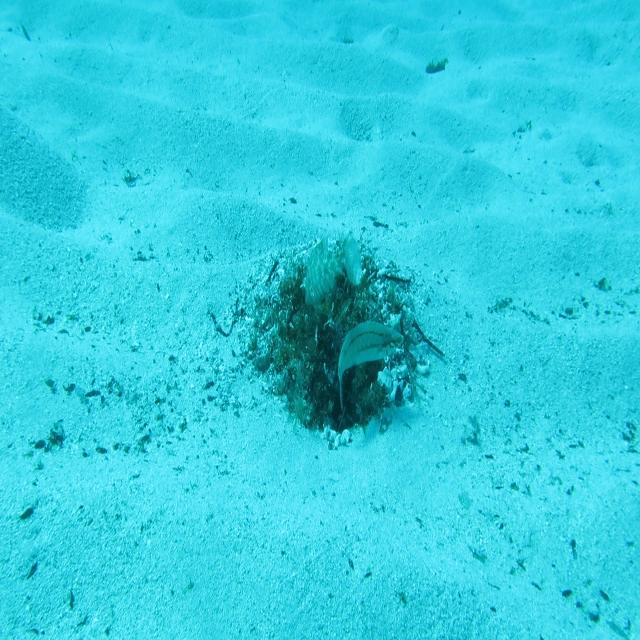NIP_CORE: (301, 230, 364, 310)
core_nest: (300, 274, 354, 328)
female: (337, 316, 405, 414)
nest: (226, 220, 438, 457)
vegetation: (423, 57, 450, 77)
